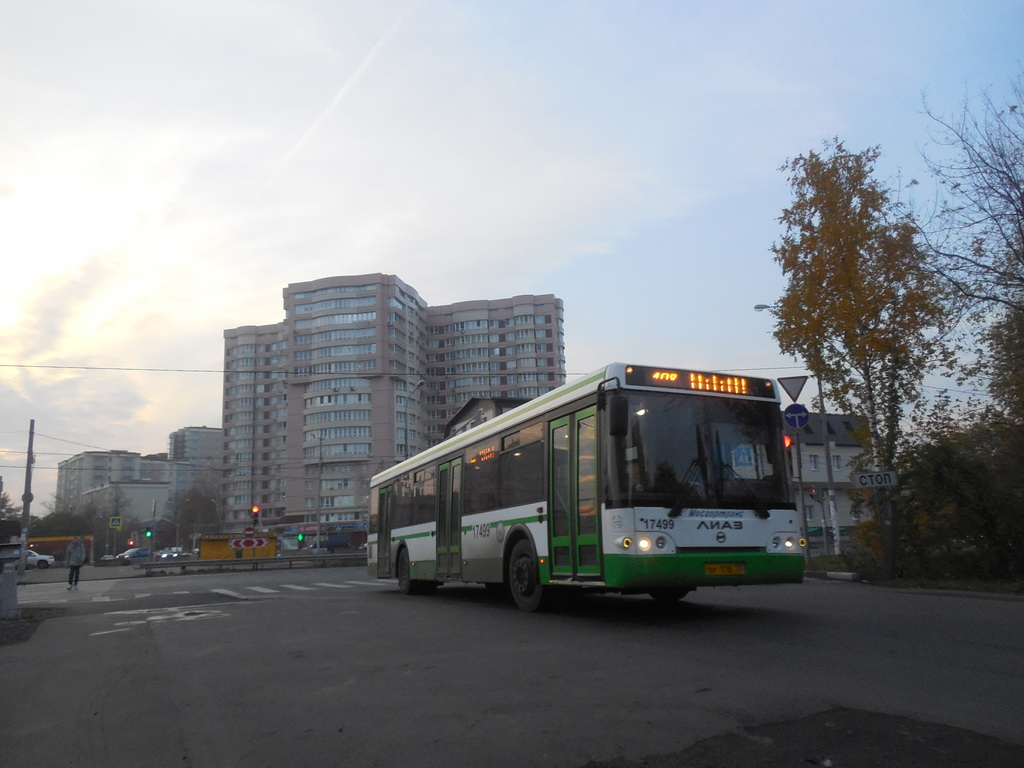Bus: (368, 360, 805, 608)
